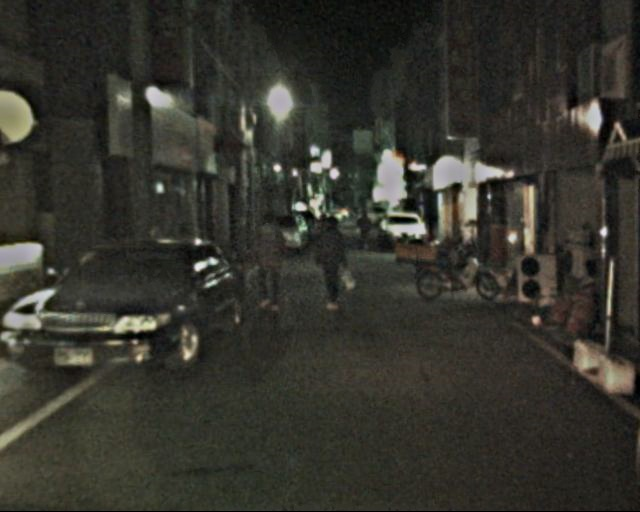person: (249, 215, 290, 312), (313, 216, 351, 308), (357, 211, 373, 248)
